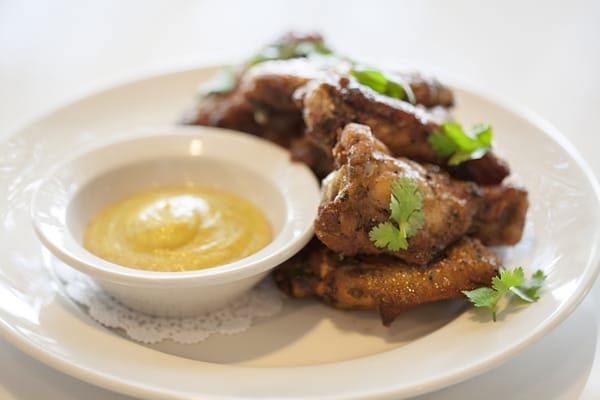soup: (269, 121, 525, 323)
sushi: (31, 124, 322, 318)
